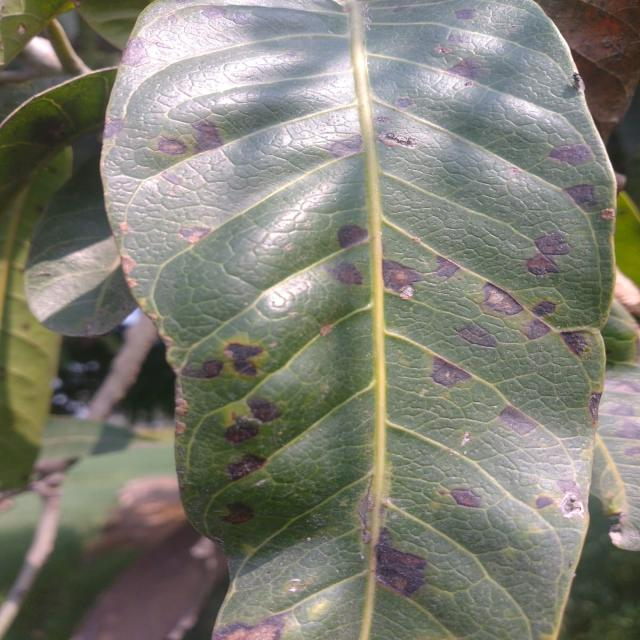Anthracnose: (359, 530, 438, 602), (371, 252, 424, 302), (203, 340, 262, 381), (476, 281, 526, 323), (210, 614, 289, 640), (219, 337, 265, 378), (426, 356, 472, 394), (456, 318, 501, 355), (222, 412, 261, 452), (496, 403, 538, 439), (225, 449, 267, 483), (534, 229, 572, 264), (245, 390, 281, 426), (220, 497, 256, 532), (448, 51, 486, 83), (548, 142, 593, 169), (560, 323, 592, 359), (120, 34, 152, 70), (192, 118, 223, 153), (325, 134, 365, 161), (427, 253, 460, 284), (519, 314, 551, 344), (182, 359, 223, 378), (332, 261, 364, 285), (527, 254, 559, 276), (378, 131, 419, 148), (564, 185, 597, 206), (560, 491, 585, 518), (338, 225, 367, 248), (449, 488, 482, 508), (530, 297, 558, 320), (156, 137, 188, 157), (231, 357, 260, 378), (179, 227, 211, 244), (116, 253, 138, 277), (102, 117, 123, 141), (160, 168, 184, 187), (616, 420, 639, 439), (454, 7, 478, 23), (533, 493, 554, 511), (175, 391, 189, 417), (590, 392, 601, 423), (608, 404, 634, 416), (202, 7, 225, 19), (395, 97, 416, 109), (14, 21, 29, 37), (599, 207, 616, 221), (391, 2, 409, 15), (117, 220, 131, 236), (231, 12, 249, 24), (447, 33, 467, 43), (175, 420, 187, 435), (319, 325, 333, 337), (625, 447, 639, 457), (434, 46, 451, 54), (374, 116, 390, 124)
